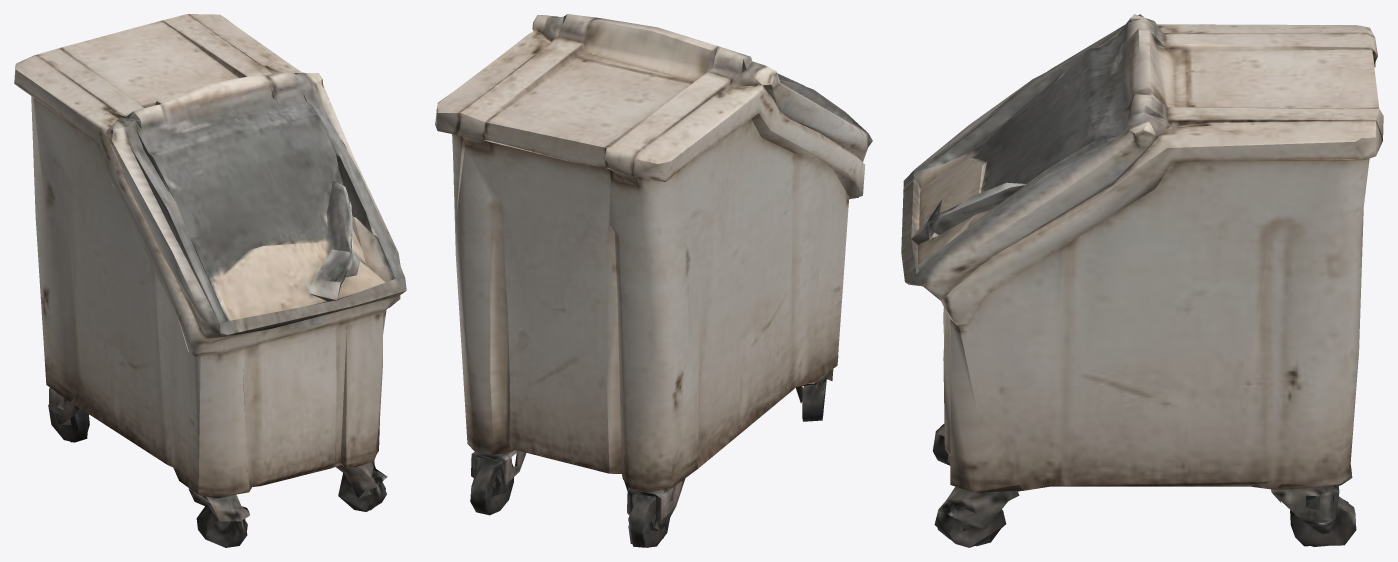
File: p7-ingredient-bin.glb
The picture shows the model from 3 angles, left to right: view 1: azimuth 30°, elevation 25°; view 2: azimuth 150°, elevation 25°; view 3: azimuth 270°, elevation 25°; orthographic projection. The views are drawn at different scales.
Visible parts, largest first — view 1: p7-ingredient-bin; view 2: p7-ingredient-bin; view 3: p7-ingredient-bin.
Boxes of the visible parts, x1,y1,x2,y2 form: p7-ingredient-bin: (14,14,406,547); p7-ingredient-bin: (435,14,872,547); p7-ingredient-bin: (901,14,1383,547).
Bounding box in the file's own units: 0.4 × 0.7 × 0.6762.
Materials: 1 (1 with a texture image).
